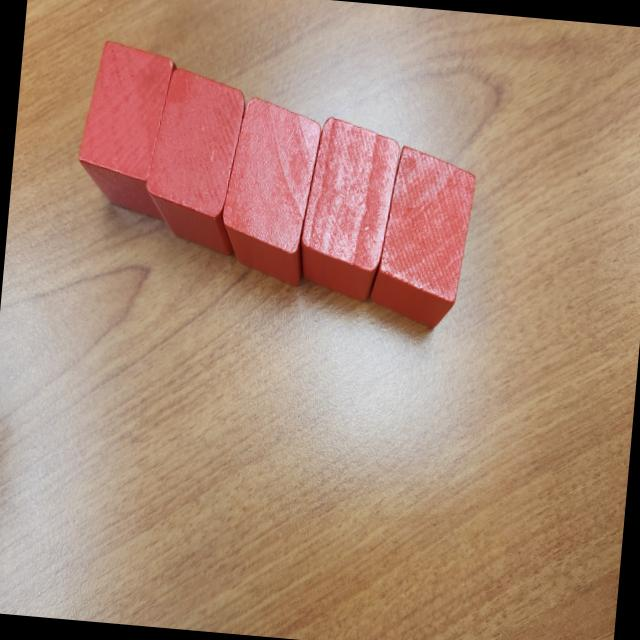red: (366, 142, 479, 332), (215, 94, 324, 289), (139, 66, 248, 258), (294, 113, 403, 305), (74, 39, 179, 220)
